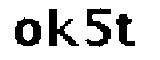5: (80, 6, 113, 50)
k: (47, 6, 79, 50)
o: (10, 17, 44, 49)
t: (112, 11, 137, 52)
